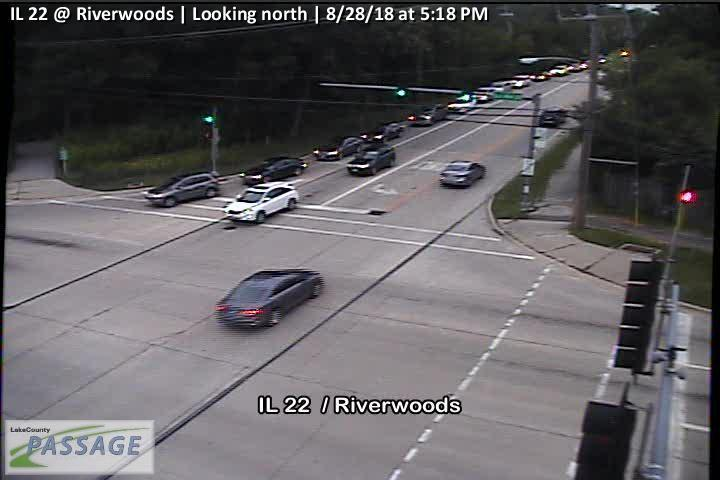SUV: (144, 172, 218, 208), (346, 143, 396, 176), (476, 87, 497, 103)
Sedan: (214, 270, 325, 326), (223, 181, 299, 223), (238, 157, 308, 187), (439, 161, 487, 190), (312, 135, 363, 161), (416, 103, 448, 127), (372, 125, 405, 144), (539, 108, 568, 128), (492, 82, 505, 91)
